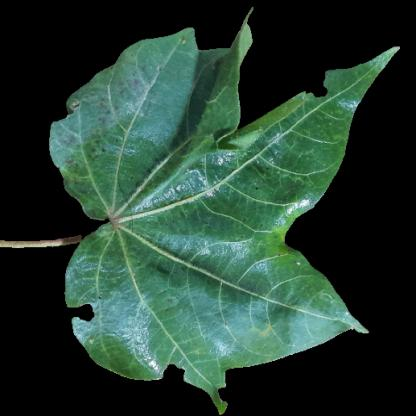healthy: (97, 92, 229, 364), (238, 249, 315, 346), (262, 131, 334, 187), (228, 189, 288, 240), (138, 48, 202, 92), (74, 255, 125, 301)
